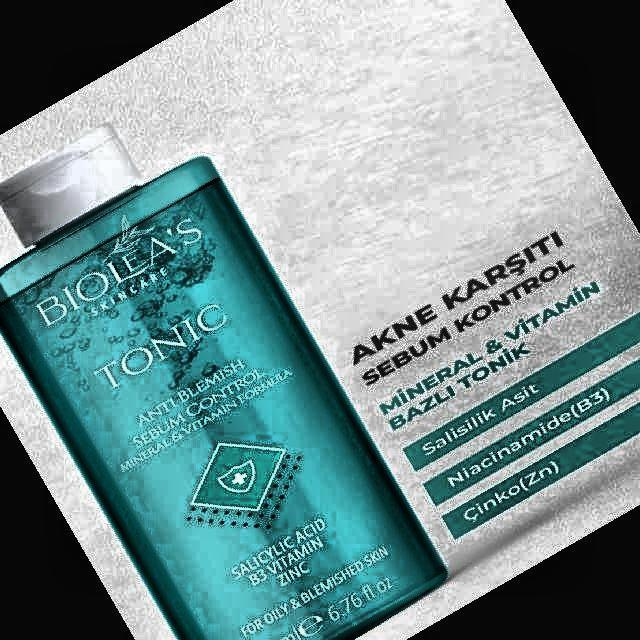plastic: (0, 130, 448, 639)
